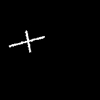single_crochet: (9, 31, 43, 51)
